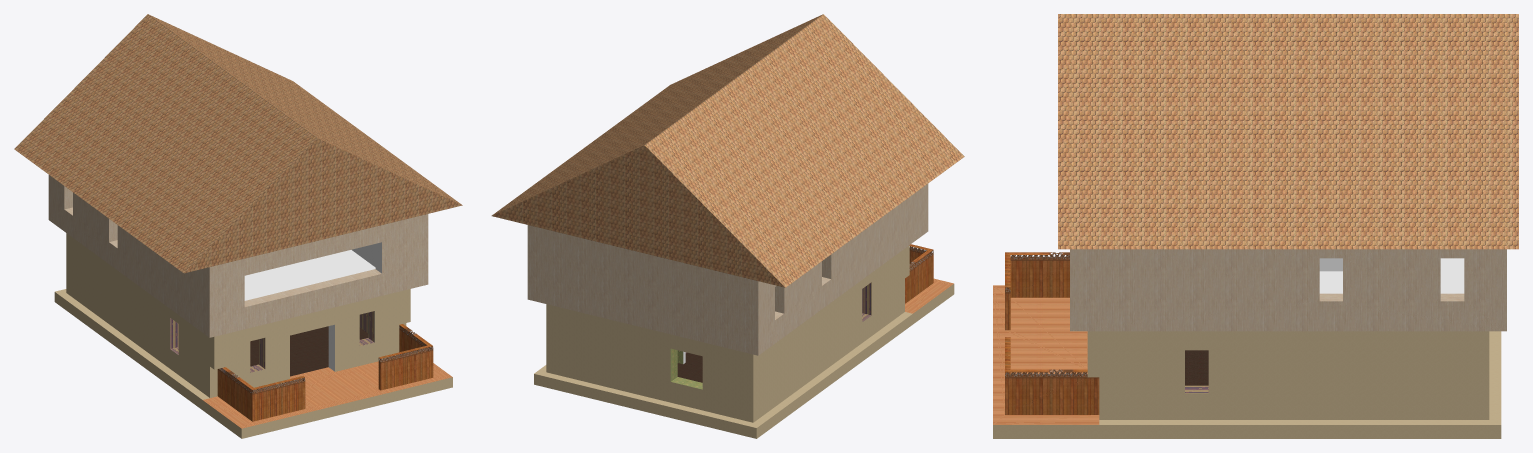
The model's file is newHouse.fbx.
3 views of the same model, side by side, from view 1: azimuth 30°, elevation 25°; view 2: azimuth 150°, elevation 25°; view 3: azimuth 270°, elevation 25° (orthographic). The views are drawn at different scales.
Parts seen in each view (by area): view 1: roof1, lowerFloor1, upperFloor1; view 2: roof1, lowerFloor1, upperFloor1; view 3: roof1, lowerFloor1, upperFloor1.
Part boxes in pixels (x1,y1,x2,y2): roof1: (14,14,462,273); lowerFloor1: (54,233,452,438); upperFloor1: (48,175,428,337); roof1: (491,14,964,287); lowerFloor1: (534,244,954,438); upperFloor1: (527,184,928,355); roof1: (1058,14,1518,249); lowerFloor1: (993,252,1501,438); upperFloor1: (1070,249,1506,331).
Bounding box in the file's own units: 444 × 394 × 534.
